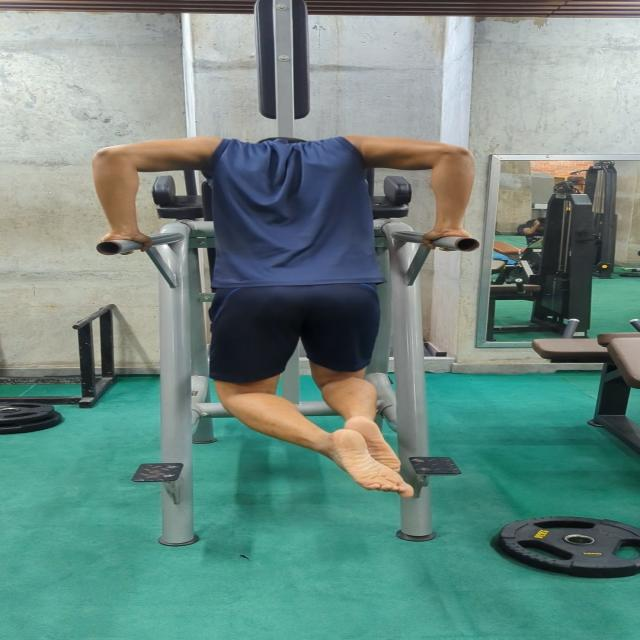Normal_Dips: (89, 122, 483, 503)
